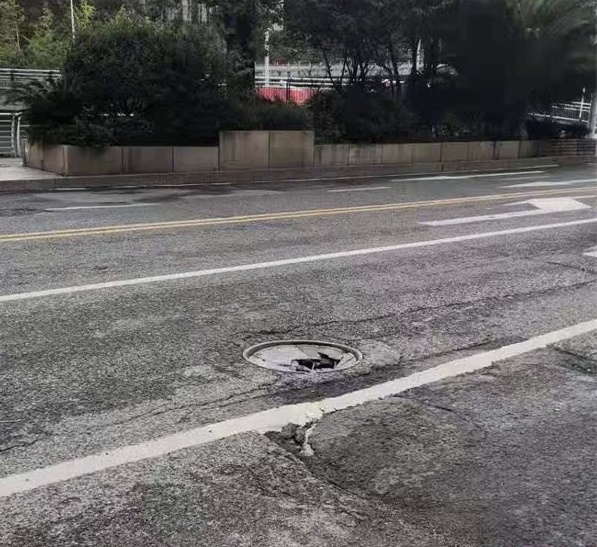broke: (239, 339, 364, 373)
